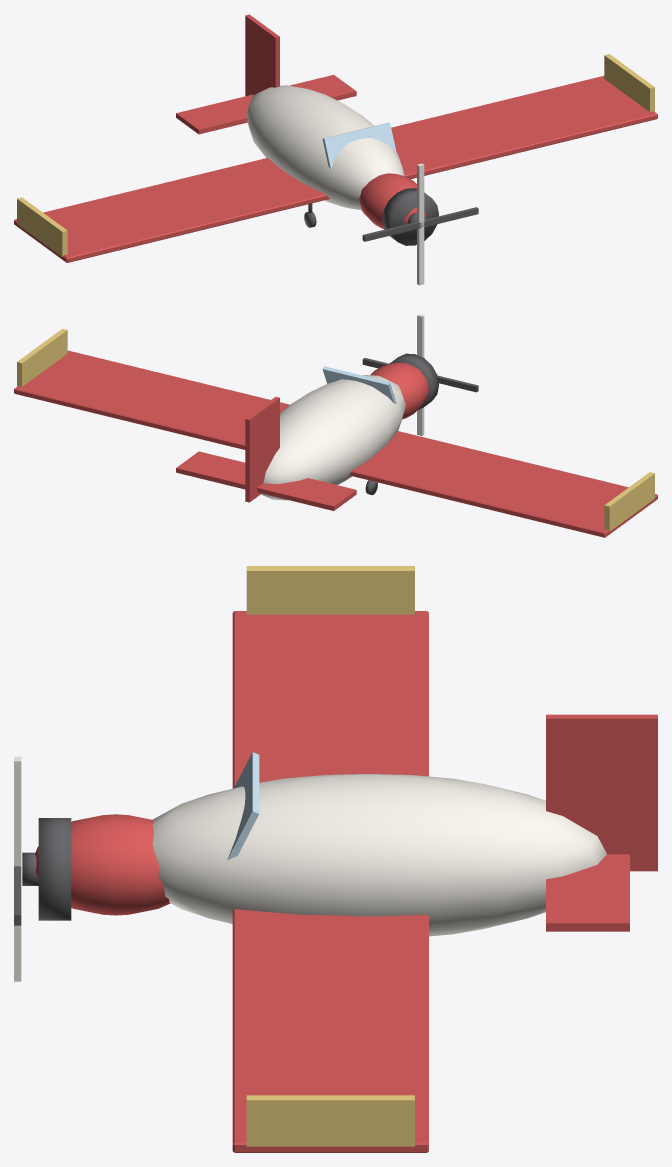
The model's file is MiniPlane.glb.
3 views of the same model, one above another, from view 1: azimuth 30°, elevation 25°; view 2: azimuth 150°, elevation 25°; view 3: azimuth 270°, elevation 25° (orthographic). The views are drawn at different scales.
Parts seen in each view (by area): view 1: Wing, Fuselage, TailWing, TailFin, Cowl, Nose, WingTipL, WingTipR, Windshield, PropA, PropB; view 2: Wing, Fuselage, TailWing, TailFin, WingTipL, Nose, WingTipR, Windshield, Cowl, PropA, PropB; view 3: Wing, Fuselage, TailFin, WingTipR, Nose, WingTipL, TailWing, Cowl, Windshield, PropA.
Boxes of the visible parts, x1,y1,x2,y2 form: Wing: (14, 76, 657, 262); Fuselage: (246, 85, 404, 210); TailWing: (176, 74, 356, 134); TailFin: (245, 14, 279, 96); Cowl: (382, 188, 438, 245); Nose: (359, 173, 426, 228); WingTipL: (17, 197, 67, 256); WingTipR: (604, 54, 654, 111); Windshield: (322, 122, 396, 169); PropA: (417, 163, 424, 285); PropB: (362, 207, 478, 241); Wing: (14, 350, 657, 537); Fuselage: (261, 375, 405, 500); TailWing: (176, 451, 356, 510); TailFin: (245, 396, 279, 502); WingTipL: (604, 472, 654, 531); Nose: (370, 362, 428, 419); WingTipR: (17, 328, 67, 386); Windshield: (322, 366, 396, 403); Cowl: (389, 353, 438, 409); PropA: (417, 314, 424, 435); PropB: (362, 358, 478, 392); Wing: (232, 611, 428, 1152); Fuselage: (152, 774, 606, 936); TailFin: (546, 714, 657, 871); WingTipR: (246, 1095, 414, 1146); Nose: (35, 814, 170, 915); WingTipL: (246, 566, 414, 614); TailWing: (546, 854, 629, 931); Cowl: (38, 818, 71, 920); Windshield: (227, 752, 259, 860); PropA: (14, 756, 21, 981).
Size of the model in its own units: 13.52 by 3.1 by 6.89.
